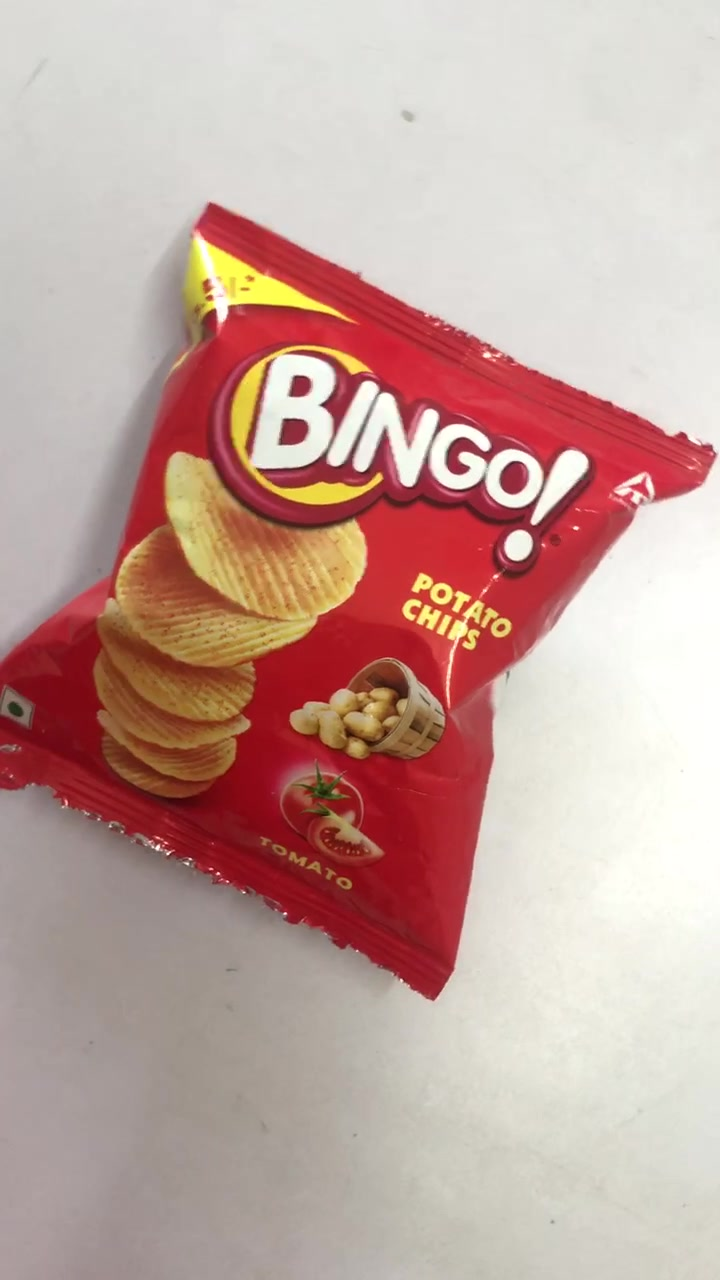Bingo: (2, 203, 720, 1004)
